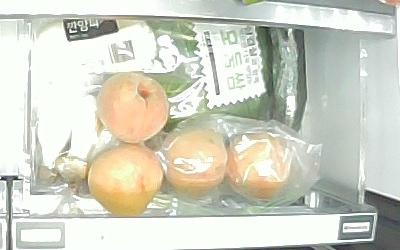peach: (87, 144, 163, 217), (97, 72, 169, 143)
peach_vinyl: (228, 132, 290, 203), (165, 127, 227, 191)
